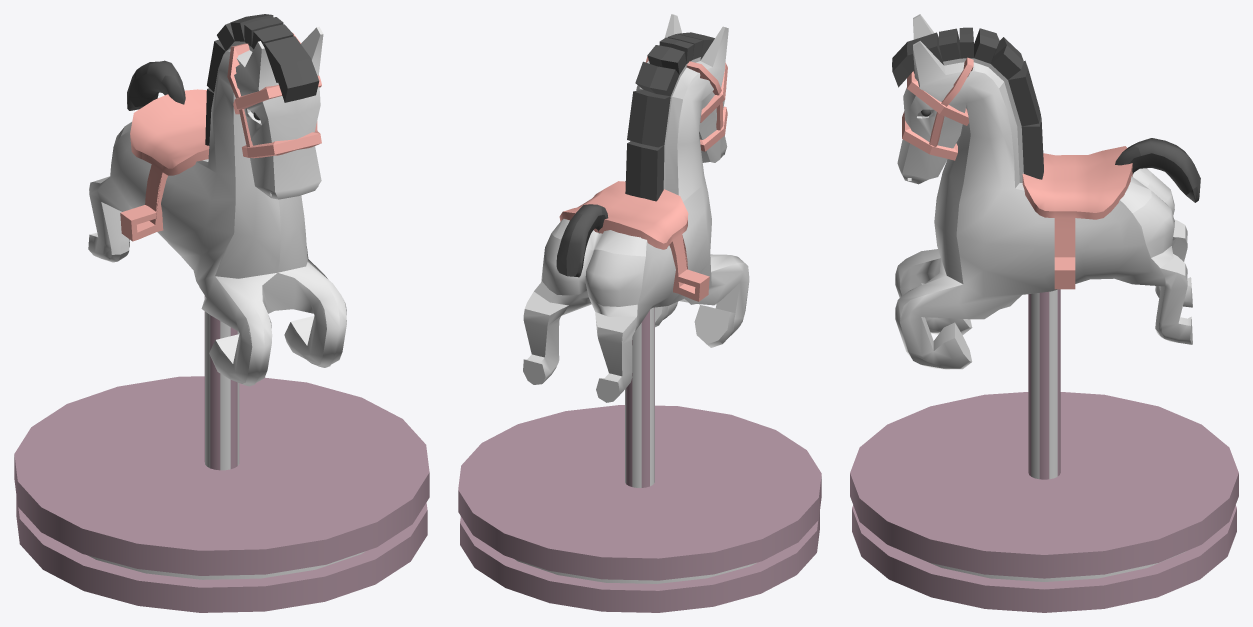
The model's file is all.fbx.
3 renders of one model, left to right at view 1: azimuth 30°, elevation 25°; view 2: azimuth 150°, elevation 25°; view 3: azimuth 270°, elevation 25°, orthographic. The views are drawn at different scales.
Visible parts, largest first — view 1: polySurface4, polySurface8, polySurface12, polySurface5, polySurface10; view 2: polySurface4, polySurface8, polySurface12, polySurface5, polySurface10; view 3: polySurface4, polySurface8, polySurface12, polySurface5, polySurface10.
Boxes of the visible parts, x1,y1,x2,y2 form: polySurface4: [14, 376, 429, 612]; polySurface8: [88, 14, 346, 386]; polySurface12: [120, 89, 209, 241]; polySurface5: [204, 295, 239, 470]; polySurface10: [227, 32, 321, 158]; polySurface4: [458, 405, 821, 612]; polySurface8: [523, 14, 749, 402]; polySurface12: [559, 181, 709, 301]; polySurface5: [625, 307, 654, 487]; polySurface10: [645, 56, 727, 151]; polySurface4: [850, 392, 1238, 612]; polySurface8: [892, 14, 1200, 369]; polySurface12: [1022, 146, 1132, 289]; polySurface5: [1028, 289, 1060, 479]; polySurface10: [902, 57, 973, 160].
Size of the model in its own units: 30 by 42.87 by 30.
